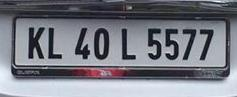0: (92, 26, 113, 61)
4: (75, 26, 91, 62)
5: (145, 25, 164, 61), (165, 25, 181, 62)
7: (199, 27, 215, 63), (182, 26, 197, 62)
K: (26, 25, 45, 60)
L: (118, 26, 140, 63), (48, 25, 66, 62)
